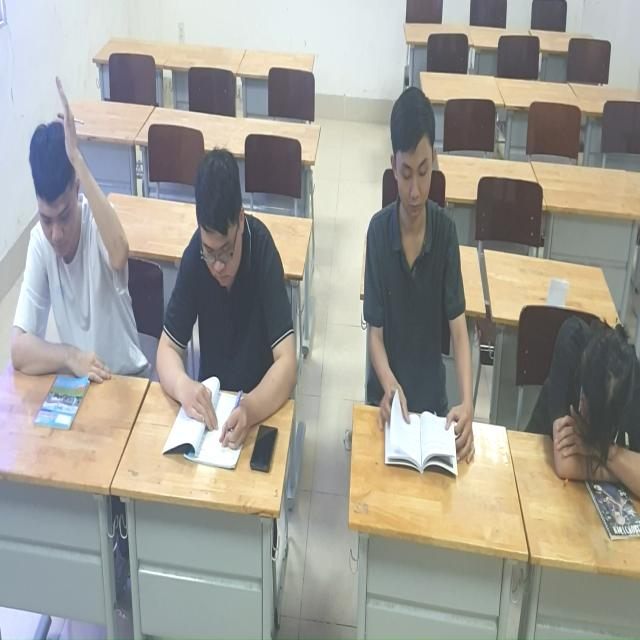raise_hand: (1, 86, 142, 400)
read: (353, 68, 475, 471), (151, 140, 297, 467)
sleep: (541, 285, 640, 514)
